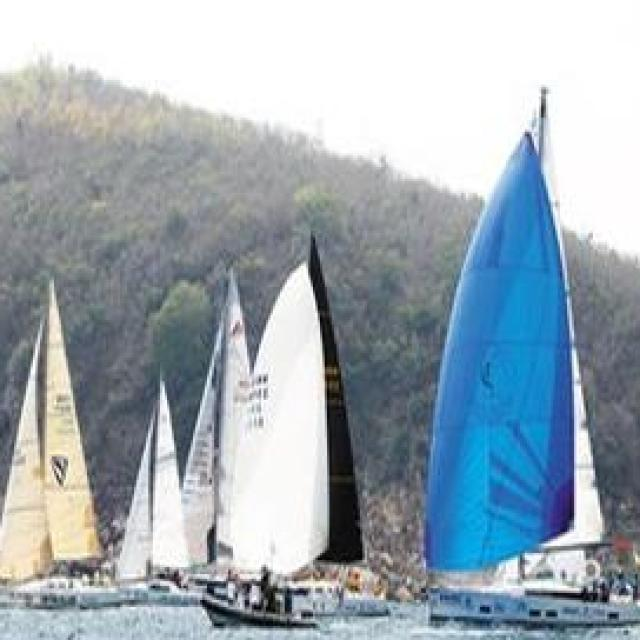sailboat: (423, 81, 637, 618), (198, 228, 378, 624), (0, 273, 127, 609), (175, 269, 258, 594), (117, 368, 194, 606)
